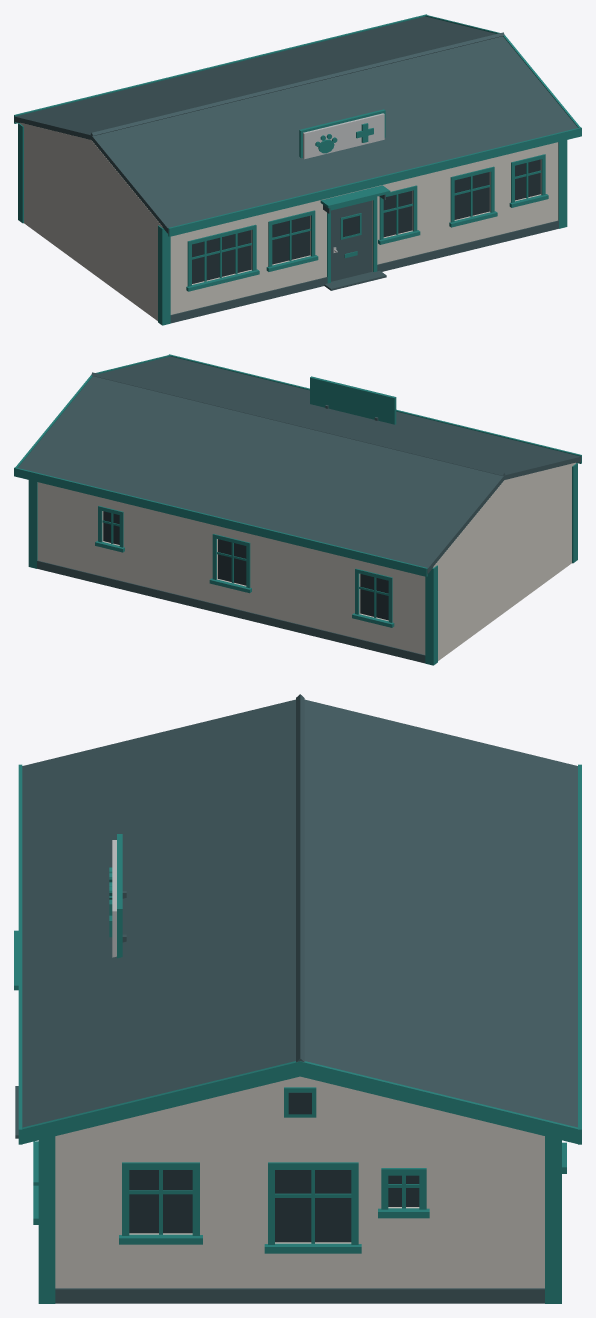
The model's file is clinic.glb.
3 renders of one model, top to bottom at view 1: azimuth 30°, elevation 25°; view 2: azimuth 150°, elevation 25°; view 3: azimuth 270°, elevation 25°, orthographic. The views are drawn at different scales.
Visible parts, largest first — view 1: roof_slate, front_wall, sideR_wall, front_trim, front_dark, roof_trim, front_slate, roof_wall, door_slate, roof_pale, back_trim; view 2: roof_slate, back_wall, sideR_wall, roof_trim, back_trim, back_slate, roof_wall, back_dark, front_trim; view 3: roof_slate, sideL_wall, roof_trim, roof_wall, sideL_dark, sideL_trim, sideL_slate, front_trim, back_trim.
Part boxes in pixels (box(x1,y1,x2,y2)): roof_slate: box(14, 16, 577, 234); front_wall: box(170, 142, 558, 314); sideR_wall: box(24, 127, 158, 320); front_trim: box(158, 140, 567, 325); front_dark: box(192, 159, 540, 283); roof_trim: box(14, 14, 581, 236); front_slate: box(170, 194, 558, 323); roof_wall: box(20, 122, 162, 227); door_slate: box(331, 200, 372, 281); roof_pale: box(303, 113, 384, 159); back_trim: box(18, 123, 23, 223); roof_slate: box(18, 356, 581, 574); back_wall: box(37, 482, 425, 654); sideR_wall: box(437, 467, 571, 660); roof_trim: box(14, 354, 581, 576); back_trim: box(28, 480, 437, 665); back_slate: box(37, 560, 425, 663); roof_wall: box(433, 462, 575, 567); back_dark: box(103, 511, 388, 620); front_trim: box(572, 463, 577, 563); roof_slate: box(22, 694, 577, 1127); sideL_wall: box(55, 1128, 544, 1288); roof_trim: box(18, 764, 581, 1144); roof_wall: box(90, 1076, 510, 1127); sideL_dark: box(129, 1170, 419, 1242); sideL_trim: box(119, 1162, 429, 1253); sideL_slate: box(55, 1288, 544, 1303); front_trim: box(14, 930, 55, 1303); back_trim: box(545, 1136, 566, 1303).
Size of the model in its own units: 13.38 by 4.32 by 8.77.
